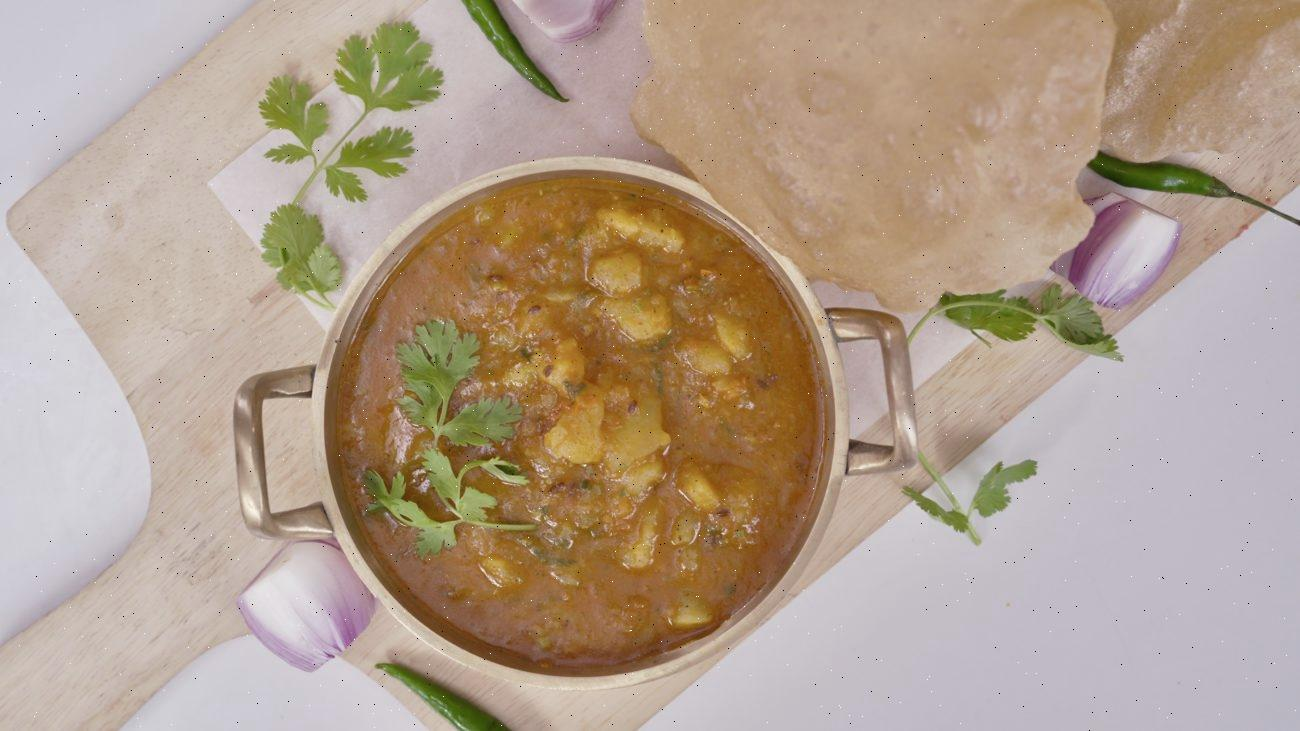aloo sabji: (367, 215, 748, 651)
